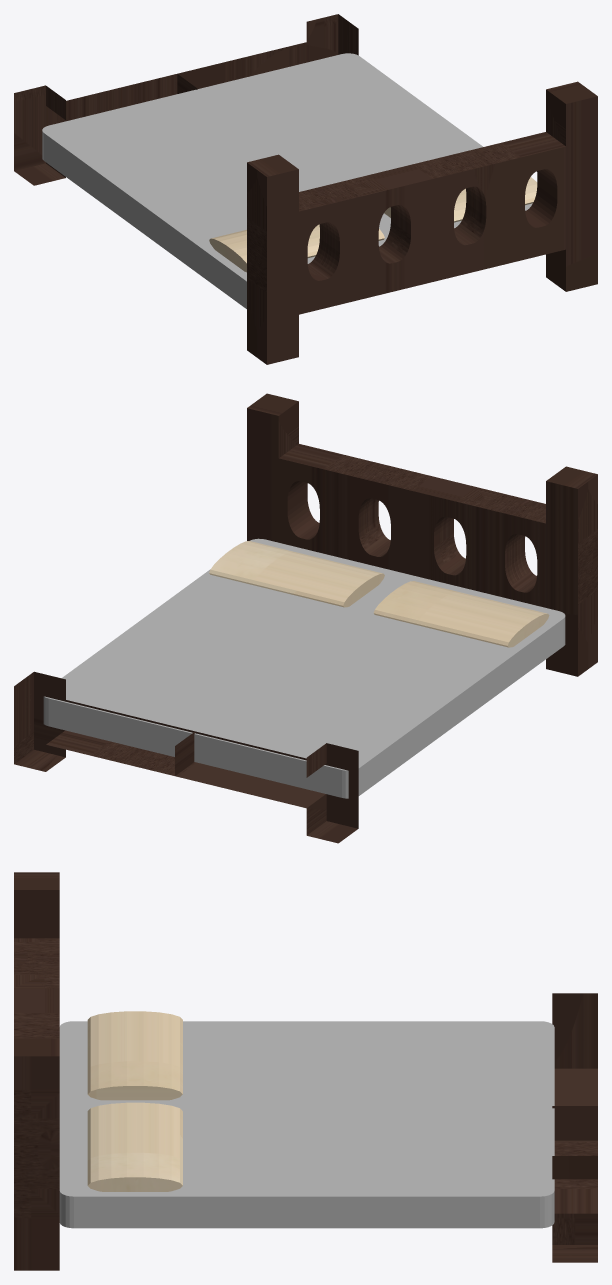
Rendered from cama.fbx.
3 renders of one model, top to bottom at view 1: azimuth 30°, elevation 25°; view 2: azimuth 150°, elevation 25°; view 3: azimuth 270°, elevation 25°, orthographic. The views are drawn at different scales.
Parts seen in each view (by area): view 1: Cabeceira; view 2: Cabeceira; view 3: Cabeceira.
Part boxes in pixels (box(x1,y1,x2,y2)): Cabeceira: box(14, 14, 597, 364); Cabeceira: box(14, 393, 597, 843); Cabeceira: box(14, 872, 597, 1270).
Size of the model in its own units: 210 by 114 by 281.
3 materials, 2 textured.
